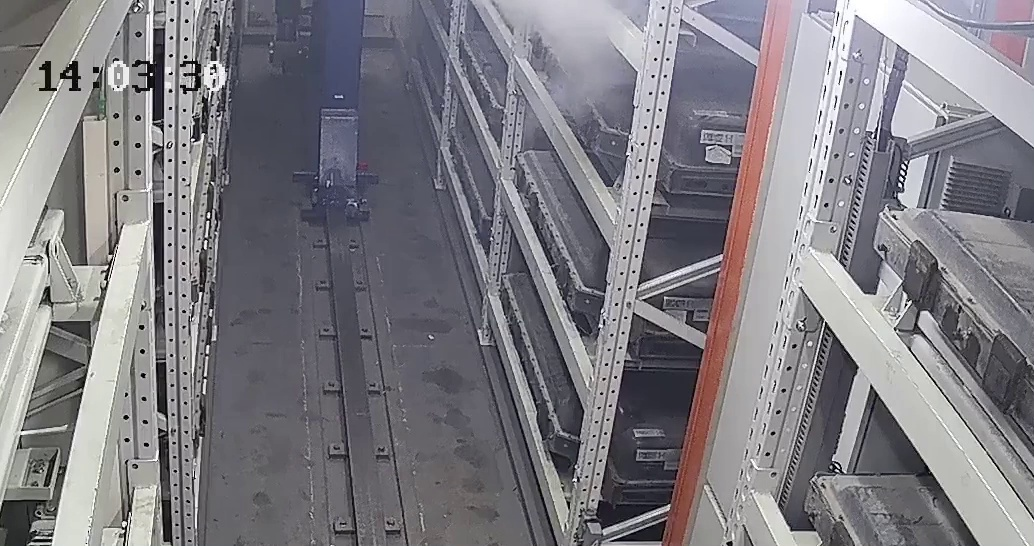smoke: (503, 1, 626, 100)
